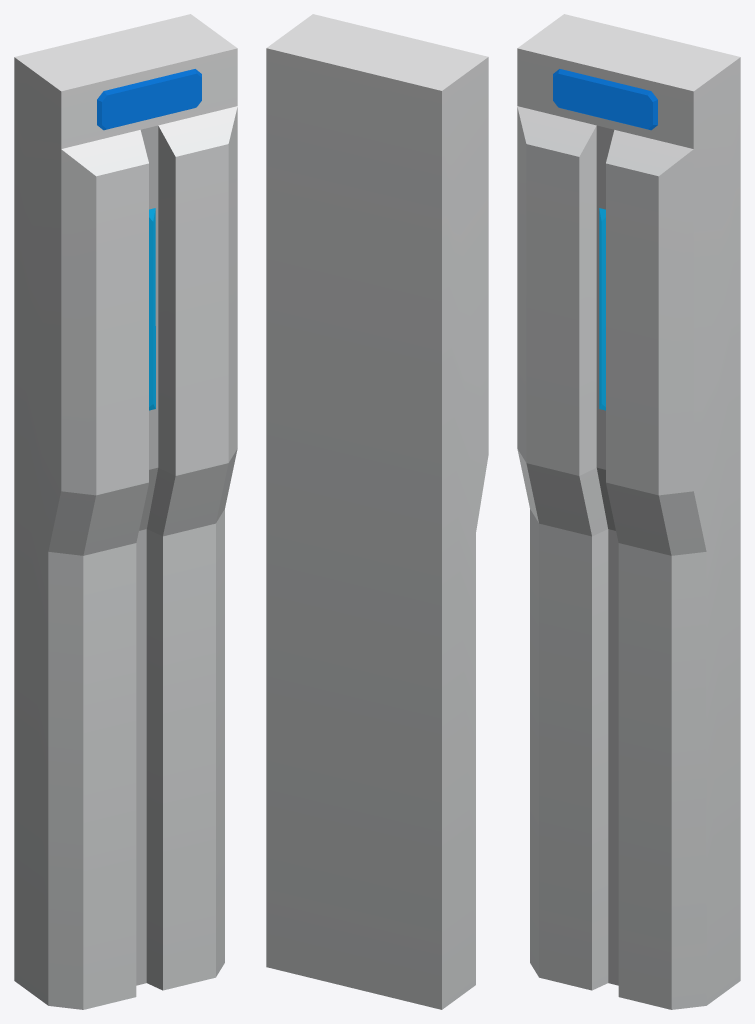
The model's file is Wall_type_A_023.glb.
3 views of the same model, side by side, from view 1: azimuth 30°, elevation 25°; view 2: azimuth 150°, elevation 25°; view 3: azimuth 330°, elevation 25° (orthographic).
Parts seen in each view (by area): view 1: Wall_type_A_023; view 2: Wall_type_A_023; view 3: Wall_type_A_023.
Boxes of the visible parts, x1,y1,x2,y2 form: Wall_type_A_023: [14, 14, 237, 1009]; Wall_type_A_023: [266, 14, 488, 1009]; Wall_type_A_023: [517, 14, 740, 1009].
Bounding box in the file's own units: 0.8 × 4 × 0.4698.
Materials: 2 (2 with a texture image).
